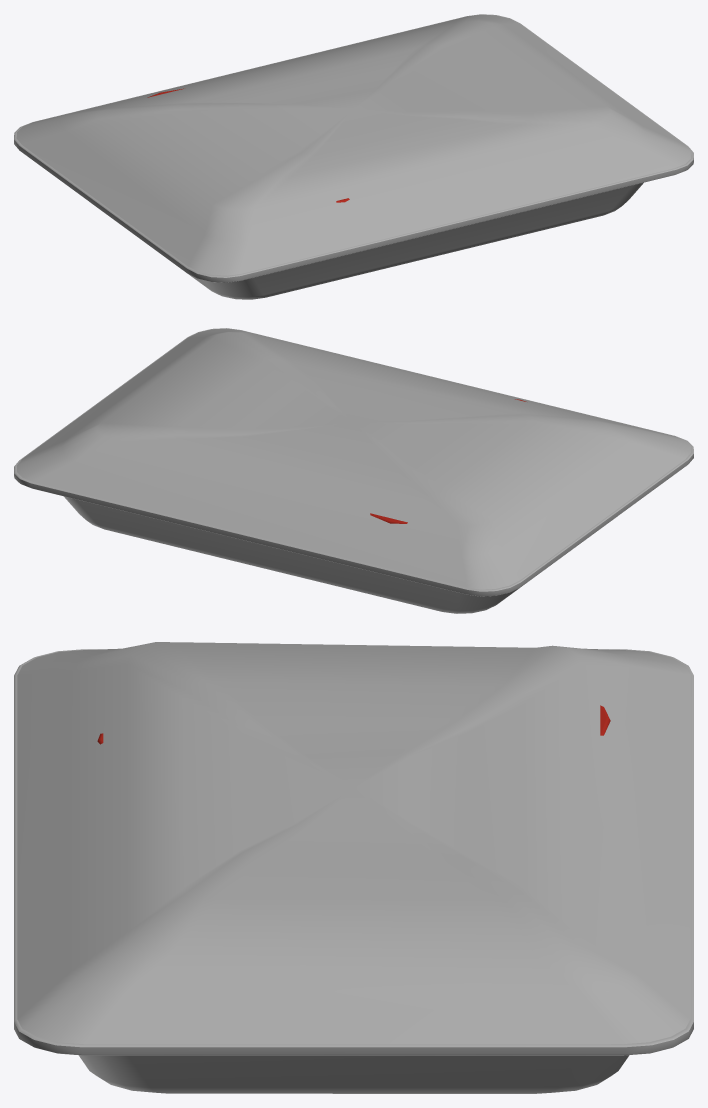
File: T-Bone Steak.fbx
3 renders of one model, top to bottom at view 1: azimuth 30°, elevation 25°; view 2: azimuth 150°, elevation 25°; view 3: azimuth 270°, elevation 25°, orthographic. The views are drawn at different scales.
Visible parts, largest first — view 1: TBone_Steaks; view 2: TBone_Steaks; view 3: TBone_Steaks.
Boxes of the visible parts, left/top/right/bottom form: TBone_Steaks: left=14, top=14, right=693, bottom=299; TBone_Steaks: left=14, top=328, right=693, bottom=613; TBone_Steaks: left=14, top=642, right=693, bottom=1093.
Size of the model in its own units: 1.92 by 0.3477 by 1.39.
3 materials, 1 textured.
